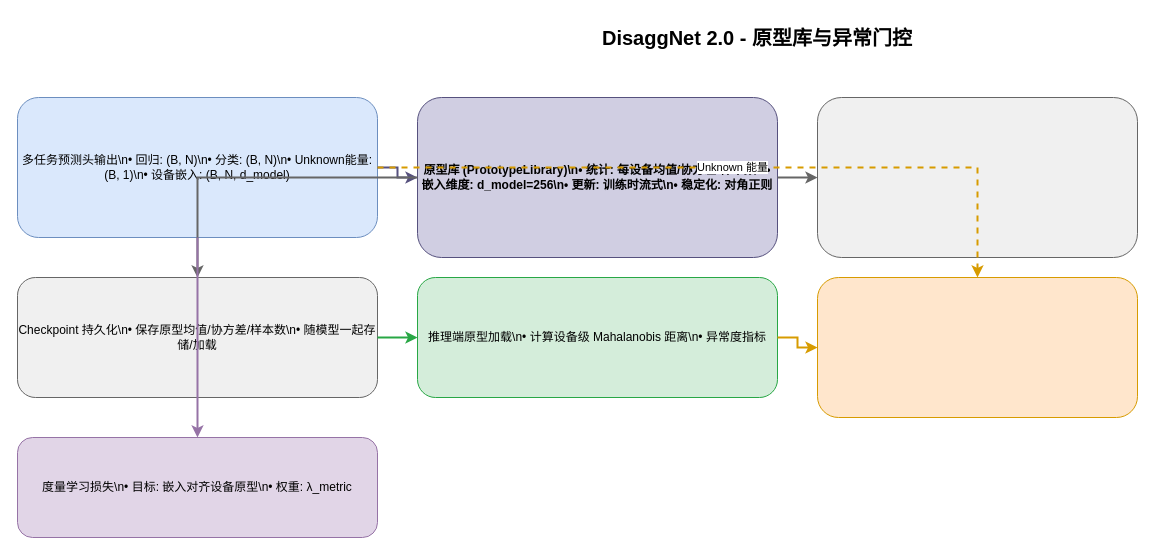
The diagram is 1155 pixels wide and 555 high, and some of its shapes have lost their labels. The shapes that lost their labels are listed below. From the top down, each one's centre as x and y in pixels, then its label:
the point at 977,177: 训练期日志与可视化\n• 每设备样本数\n• Mahalanobis距离: 均值/分位数/最大值\n• on_train_epoch_end 可视化
the point at 977,347: 异常门控（推理）\n• 高异常→提升 Unknown 权重\n• 抑制可疑设备激活\n• 输入: 距离 + Unknown 能量
